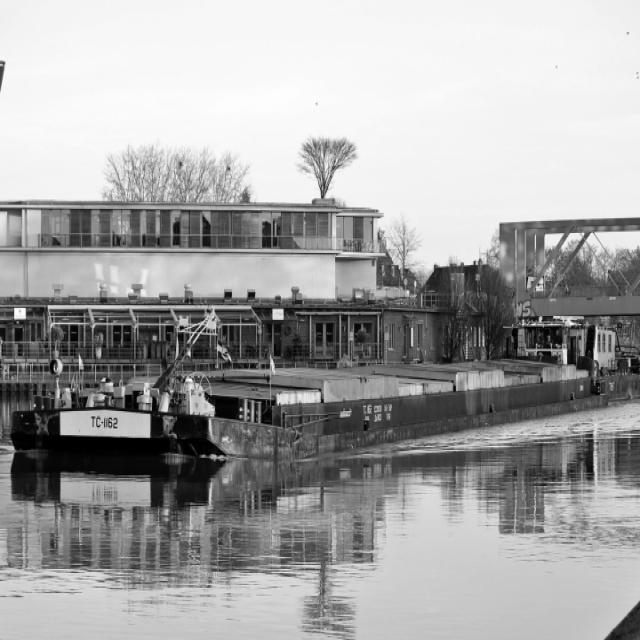tugboat: (490, 314, 640, 419)
